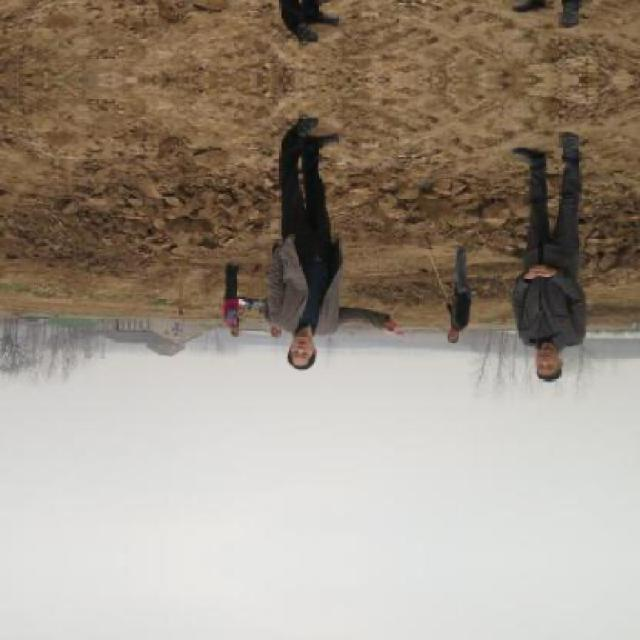sin casco: (262, 312, 342, 389), (508, 336, 578, 389)
